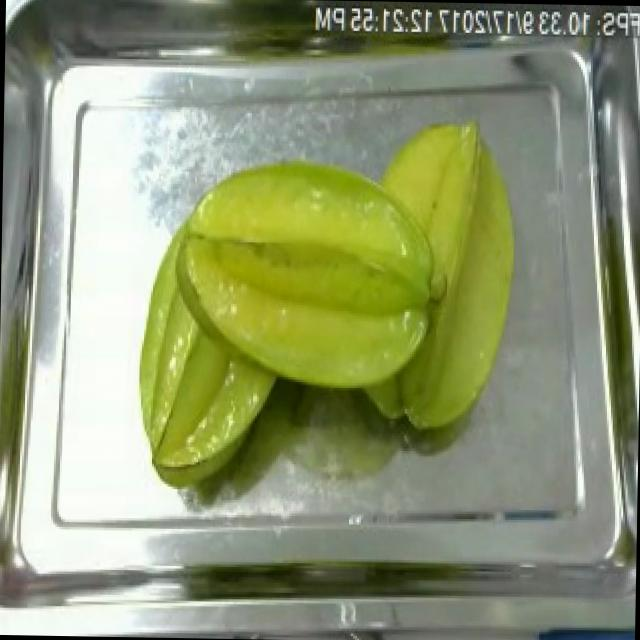fruit: (152, 136, 490, 410)
